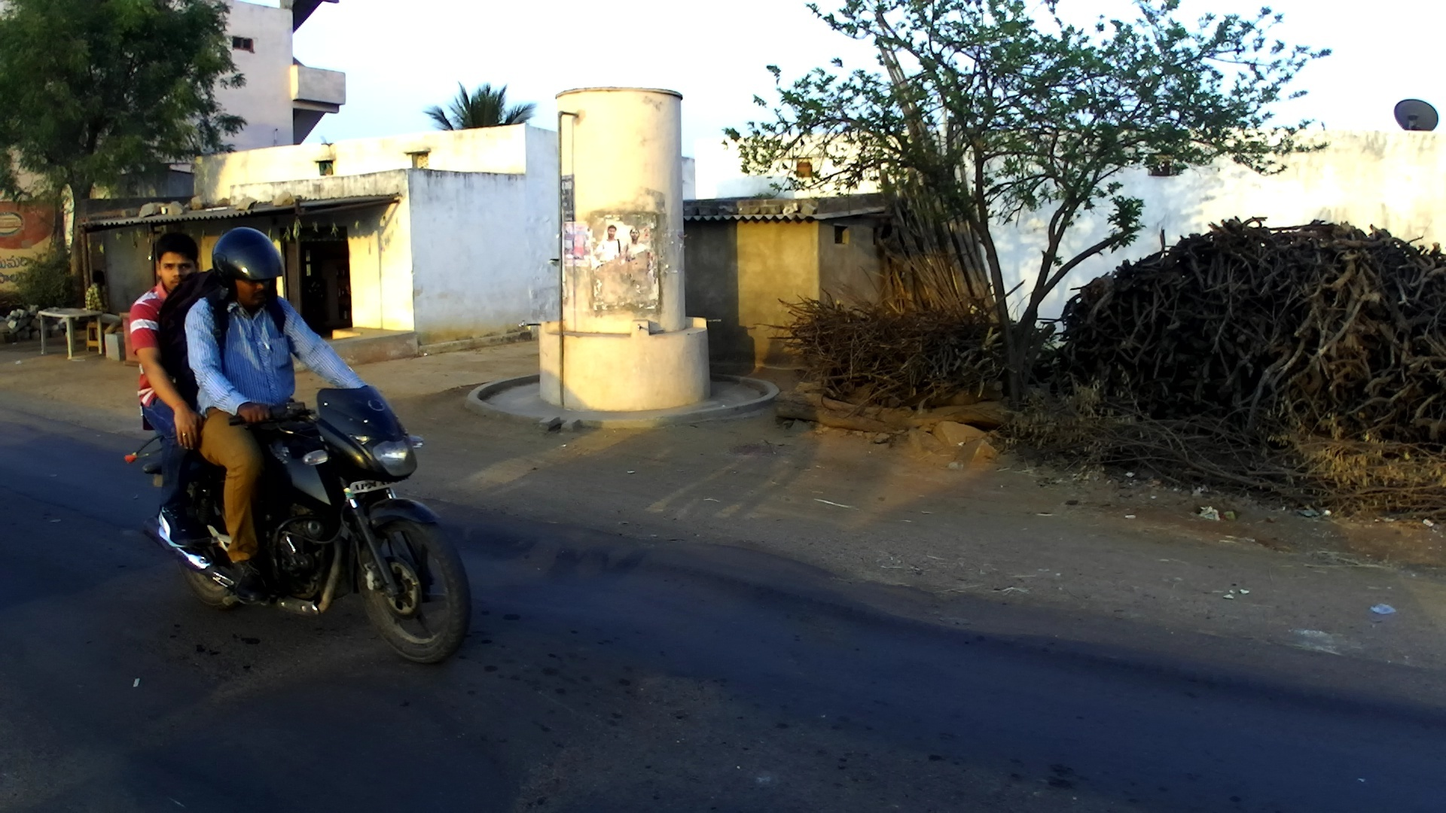motorcycle: (122, 385, 478, 665)
person: (84, 269, 111, 327)
rider: (184, 228, 367, 608), (130, 227, 242, 549)
